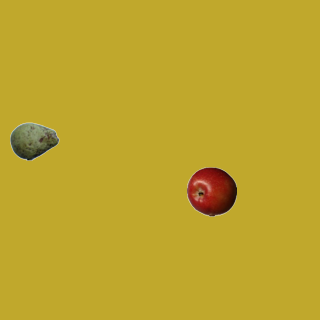Apple Braeburn: (186, 166, 236, 216)
Pear Stone: (9, 116, 59, 166)
